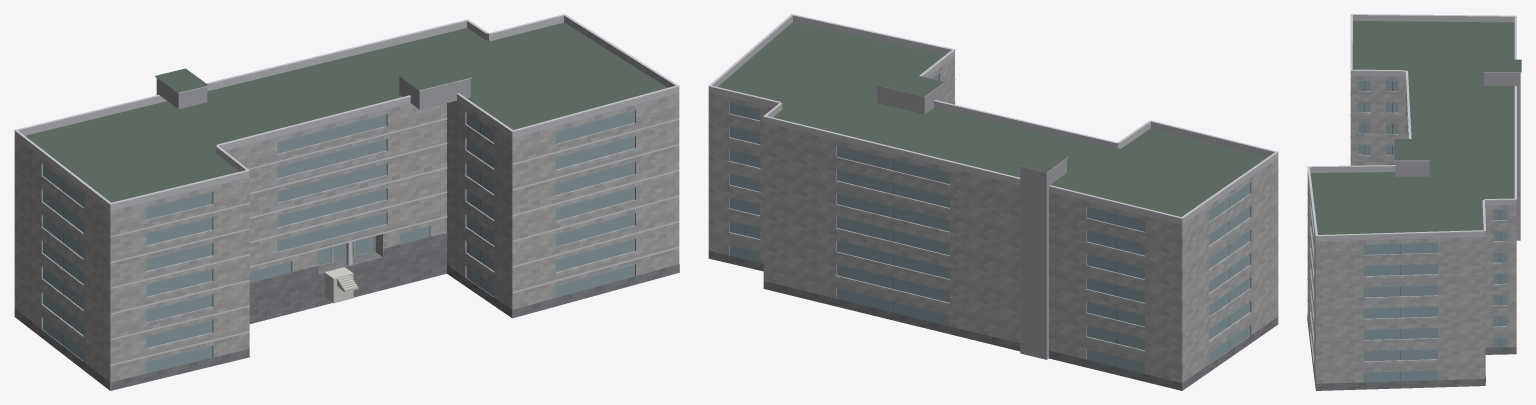
3 renders of one model, left to right at view 1: azimuth 30°, elevation 25°; view 2: azimuth 150°, elevation 25°; view 3: azimuth 270°, elevation 25°, orthographic. The views are drawn at different scales.
Parts seen in each view (by area): view 1: b314__wall, b314__roof, b314__glass, b314__base, b314__trim, b314__parapet, b314__wall2, b314__entranceStair; view 2: b314__wall, b314__roof, b314__glass, b314__parapet, b314__wall2, b314__base, b314__trim; view 3: b314__roof, b314__wall, b314__glass, b314__parapet, b314__trim, b314__wall2, b314__base, b314__frame.
Boxes of the visible parts, x1,y1,x2,y2 form: b314__wall: [14, 93, 679, 390]; b314__roof: [25, 22, 667, 323]; b314__glass: [43, 110, 634, 373]; b314__base: [14, 232, 679, 390]; b314__trim: [14, 14, 679, 365]; b314__parapet: [14, 15, 679, 210]; b314__wall2: [156, 77, 470, 109]; b314__entranceStair: [324, 267, 358, 303]; b314__wall: [708, 56, 1278, 390]; b314__roof: [718, 22, 1267, 216]; b314__glass: [729, 74, 1249, 373]; b314__parapet: [708, 15, 1278, 224]; b314__wall2: [877, 84, 1066, 359]; b314__base: [708, 251, 1278, 390]; b314__trim: [708, 14, 1278, 218]; b314__roof: [1310, 21, 1521, 234]; b314__wall: [1307, 76, 1516, 388]; b314__glass: [1358, 80, 1507, 382]; b314__parapet: [1307, 15, 1516, 241]; b314__trim: [1307, 14, 1521, 367]; b314__wall2: [1395, 72, 1520, 240]; b314__base: [1307, 314, 1516, 390]; b314__frame: [1364, 81, 1500, 380].
Bounding box in the file's own units: 80.51 × 28.61 × 32.83.
Materials: 11 (2 with a texture image).
